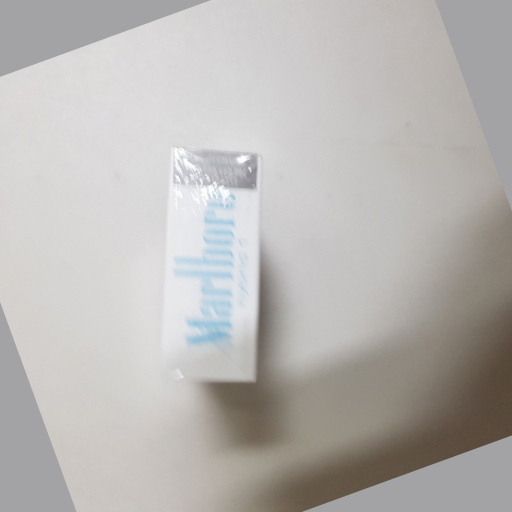Paper_0: (137, 135, 310, 434)
